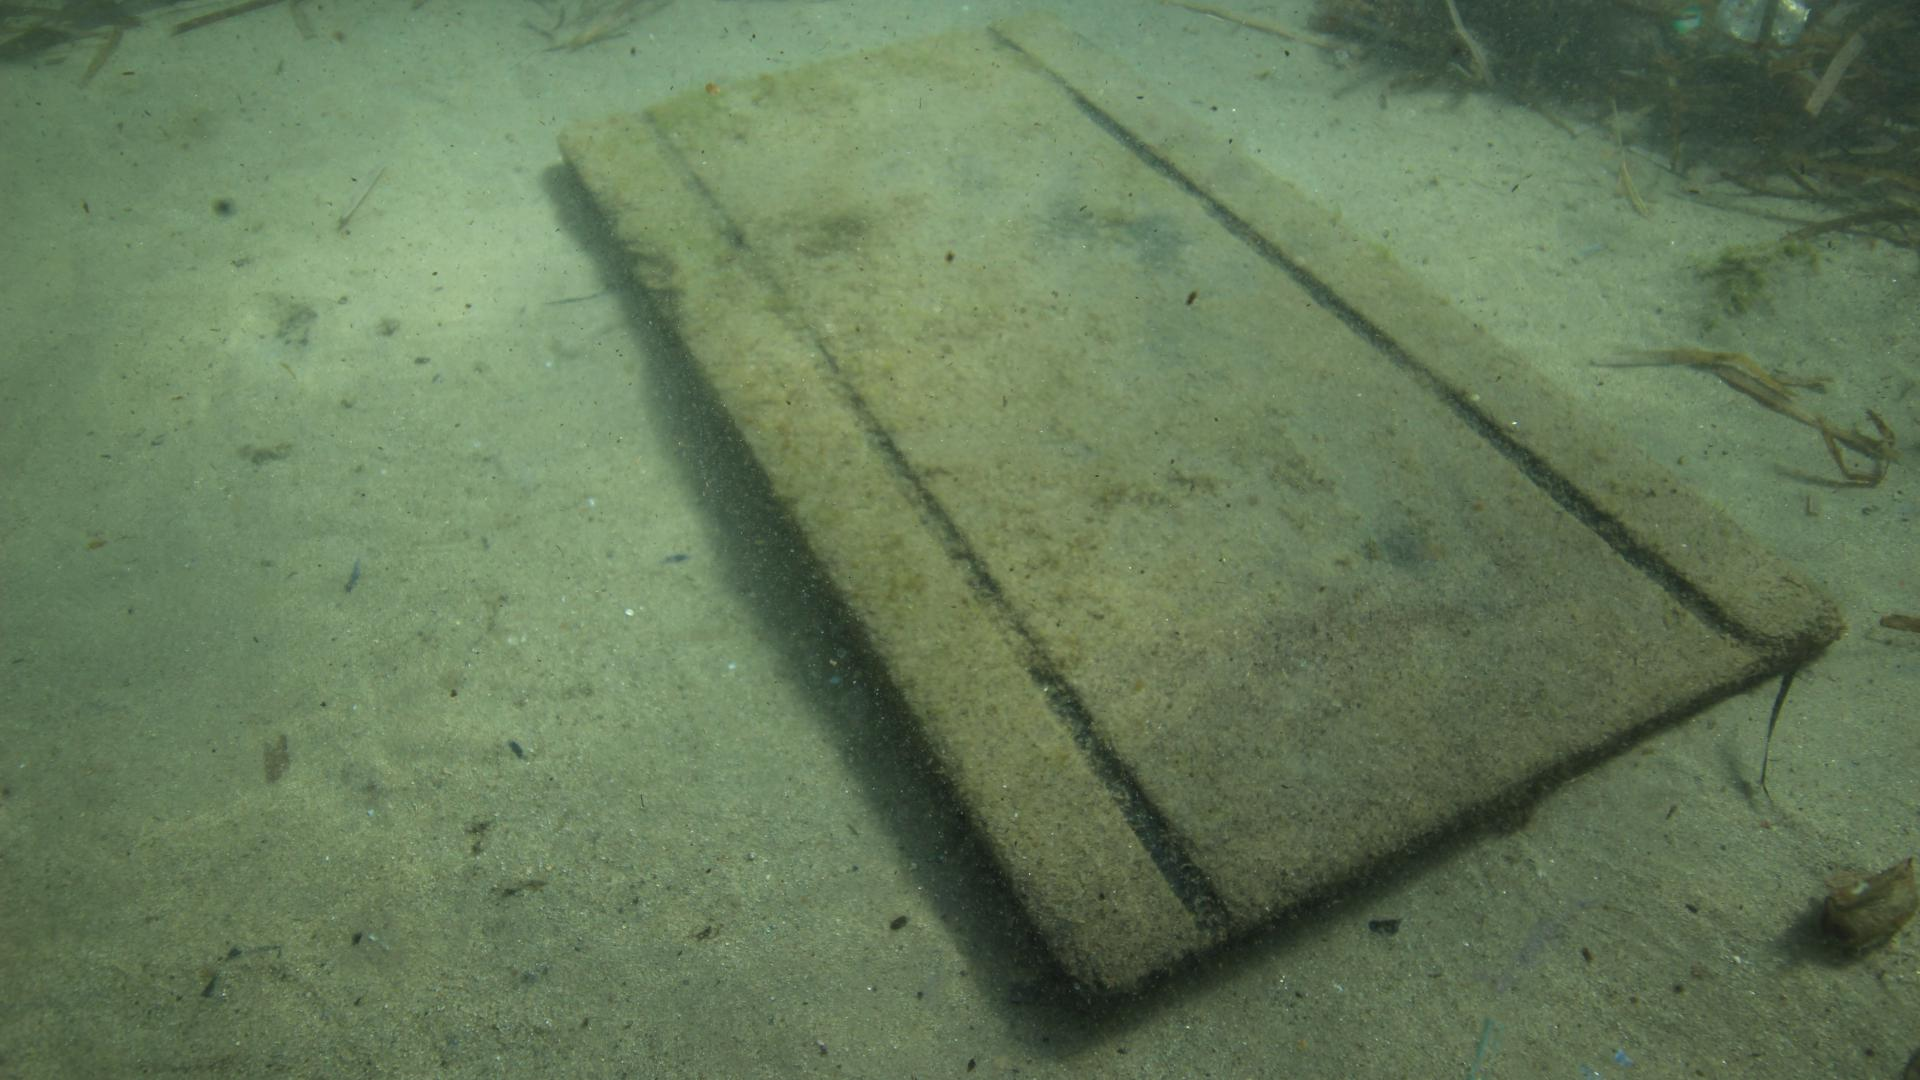wood: (559, 16, 1845, 997)
